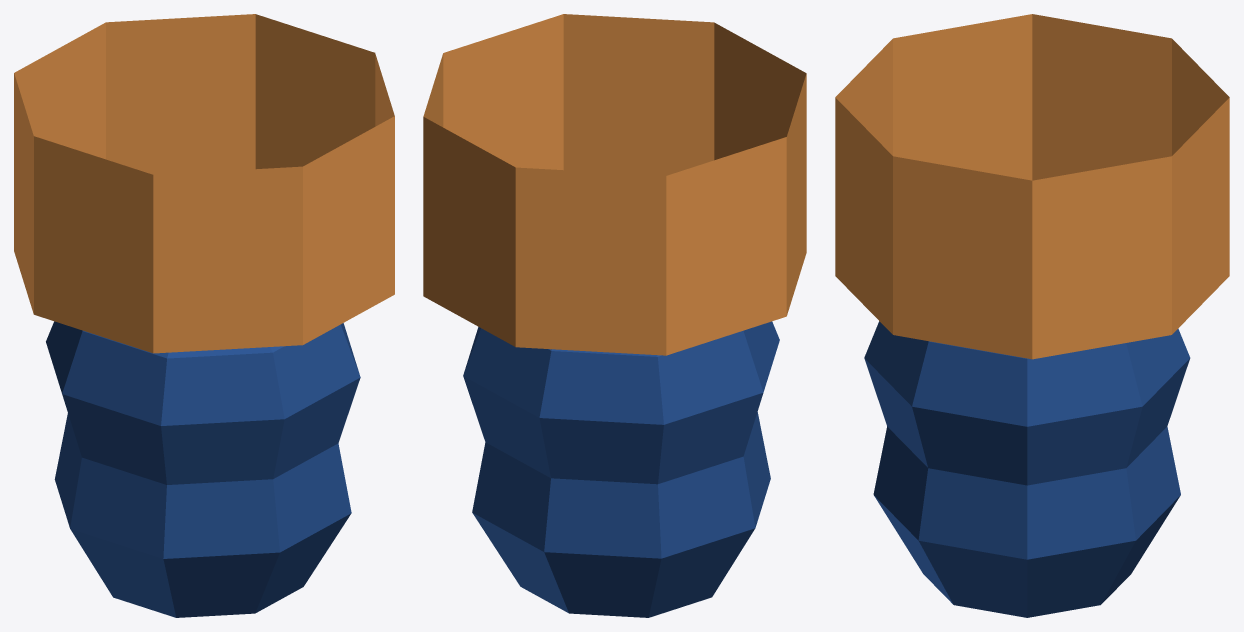
The model's file is lamp.glb.
The picture shows the model from 3 angles, left to right: view 1: azimuth 30°, elevation 25°; view 2: azimuth 150°, elevation 25°; view 3: azimuth 270°, elevation 25°; orthographic projection.
Visible parts, largest first — view 1: Lamp.Shade, Lamp.Base; view 2: Lamp.Shade, Lamp.Base; view 3: Lamp.Shade, Lamp.Base.
Part boxes in pixels (x1,y1,x2,y2): Lamp.Shade: (14, 14, 394, 353); Lamp.Base: (46, 321, 360, 617); Lamp.Shade: (423, 14, 806, 355); Lamp.Base: (463, 321, 779, 617); Lamp.Shade: (835, 14, 1229, 359); Lamp.Base: (864, 321, 1190, 617).
Size of the model in its own units: 0.1289 by 0.1725 by 0.1289.
Materials: 1 (1 with a texture image).
